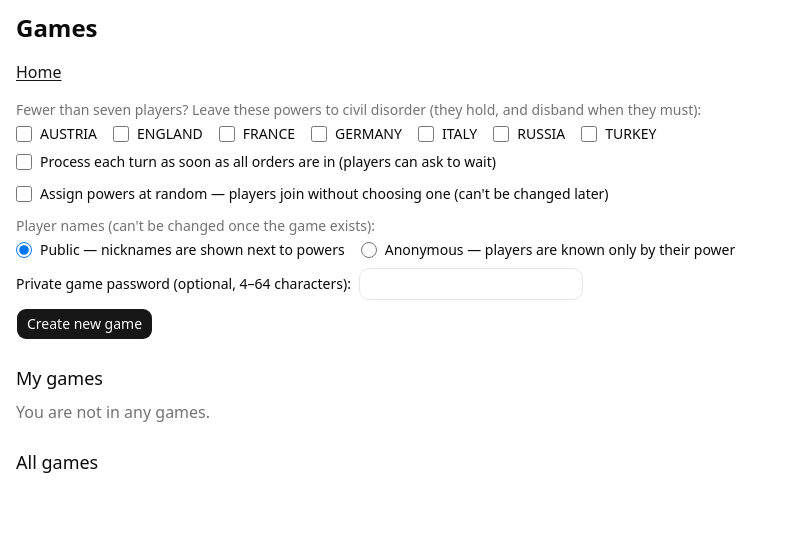
Scenario: GameList › a refused create says why and stays on the list
Click the button "Create new game": (85, 324) [16,308,153,340]
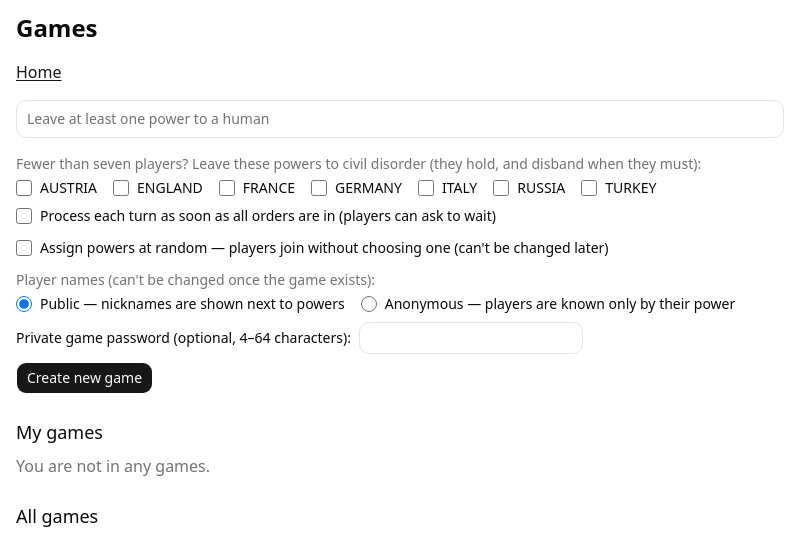
expect the text "Leave at least one power to a human" is shown: met, box [27,109,269,128]
